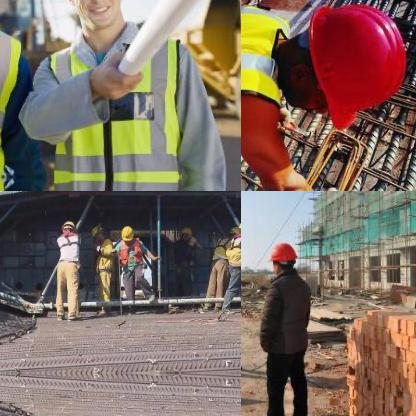Helmet: (277, 0, 413, 128), (44, 0, 139, 39), (266, 240, 300, 274), (119, 223, 136, 240), (61, 216, 75, 233), (180, 225, 192, 237), (236, 217, 240, 233)
